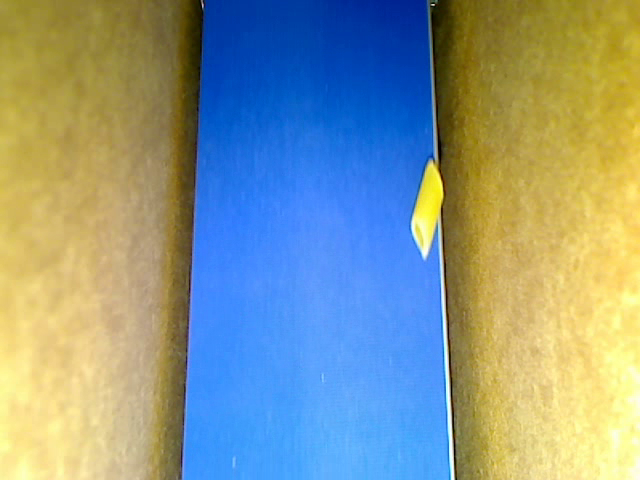penne: (409, 157, 444, 259)
